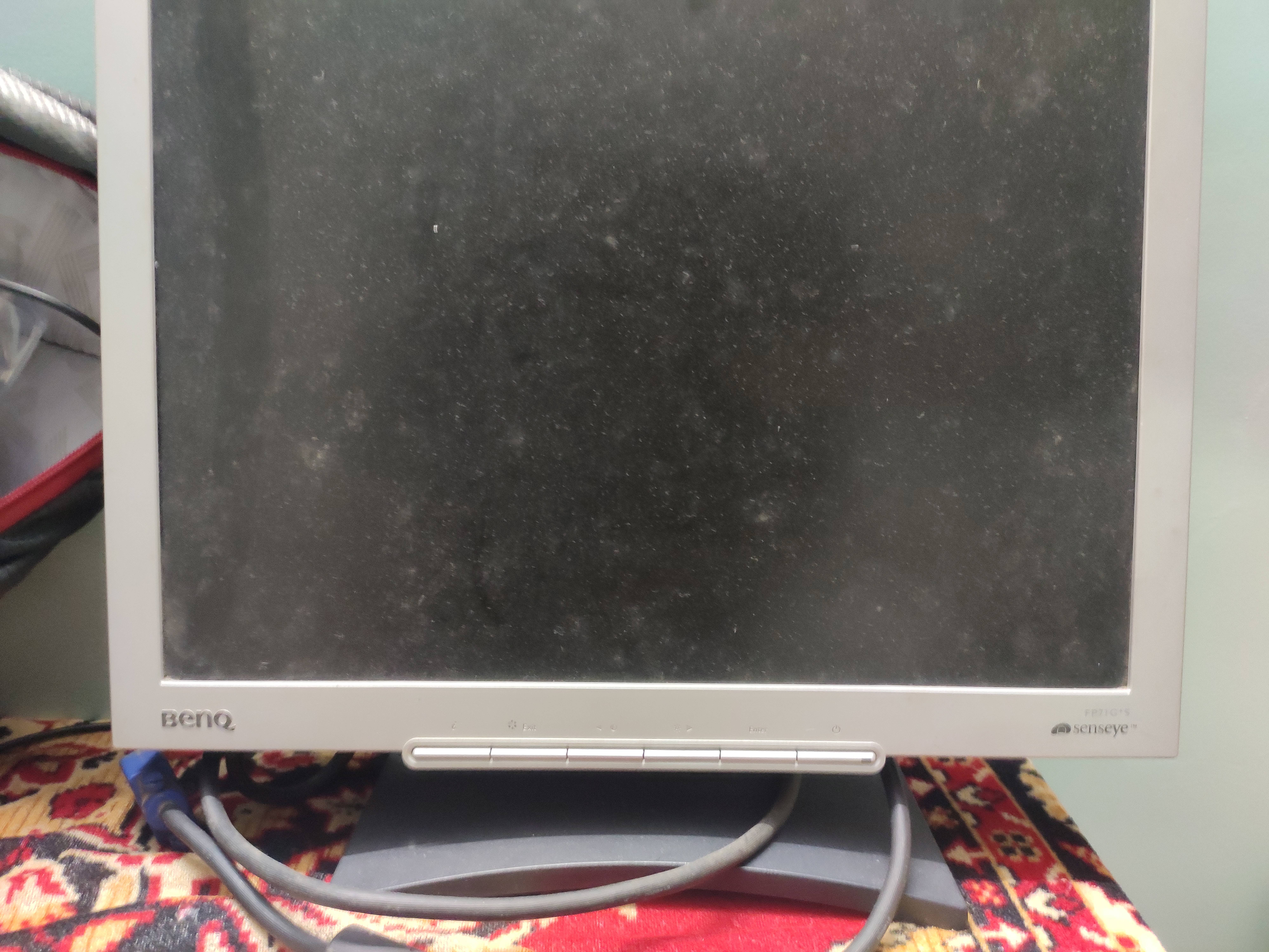Electronics: (79, 1, 1218, 937)
